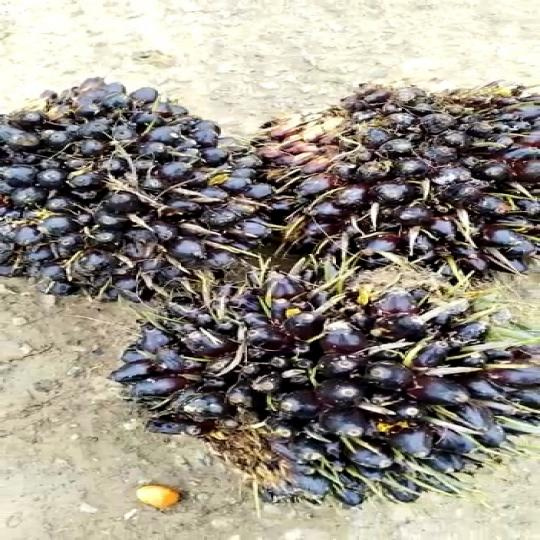mentah: (110, 289, 540, 506), (0, 68, 283, 301), (252, 81, 540, 274)
